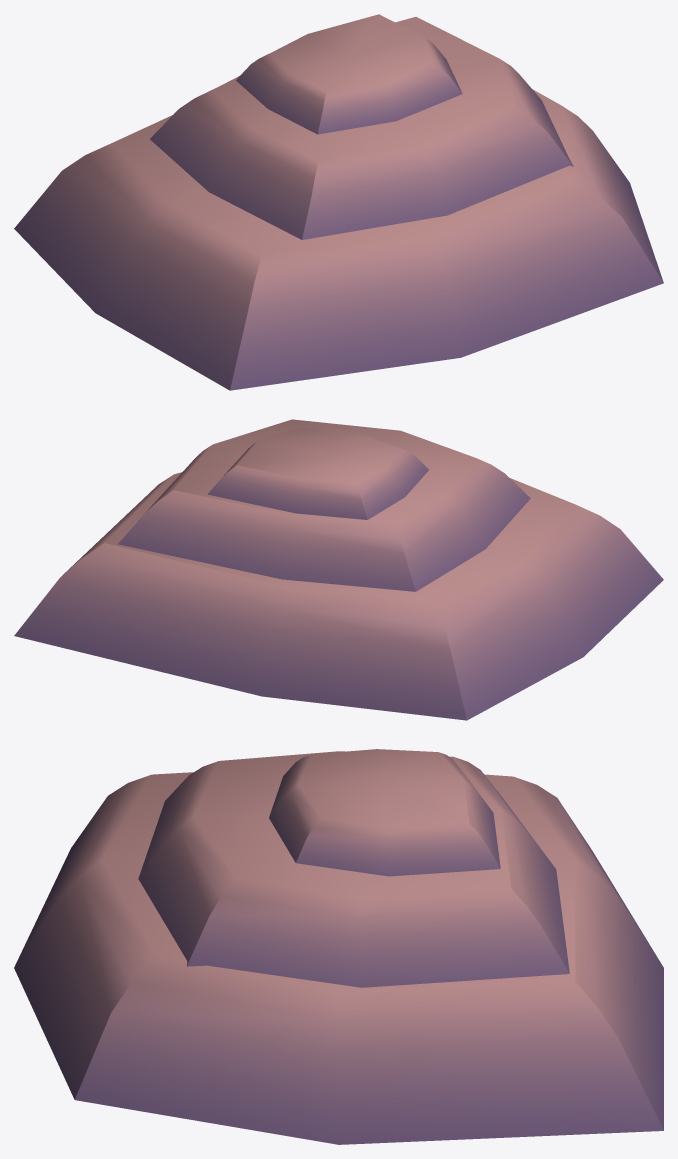
The picture shows the model from 3 angles, top to bottom: view 1: azimuth 30°, elevation 25°; view 2: azimuth 150°, elevation 25°; view 3: azimuth 270°, elevation 25°; orthographic projection. The views are drawn at different scales.
Parts seen in each view (by area): view 1: Null_1; view 2: Null_1; view 3: Null_1.
Boxes of the visible parts, bbox=[...] form: Null_1: bbox=[14, 14, 663, 390]; Null_1: bbox=[14, 419, 663, 720]; Null_1: bbox=[14, 749, 663, 1144].
Bounding box in the file's own units: 45.07 × 14.18 × 40.05.
